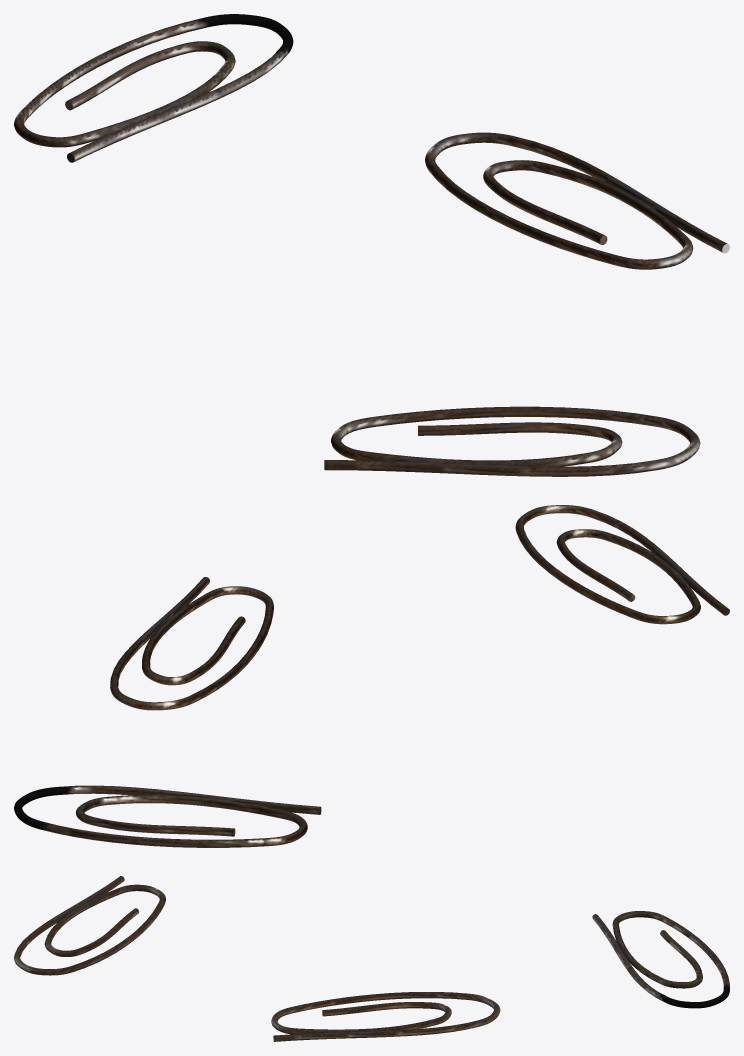
Rendered from clips.glb.
3 renders of one model, top to bottom at view 1: azimuth 30°, elevation 25°; view 2: azimuth 150°, elevation 25°; view 3: azimuth 270°, elevation 25°, orthographic. The views are drawn at different scales.
Visible parts, largest first — view 1: clip_c, clip_b, clip_a; view 2: clip_a, clip_c, clip_b; view 3: clip_b, clip_c, clip_a.
Boxes of the visible parts, box(x1,y1,x2,y2) form: clip_c: box(324, 406, 700, 476); clip_b: box(425, 132, 729, 269); clip_a: box(14, 14, 293, 162); clip_a: box(14, 785, 321, 847); clip_c: box(515, 505, 729, 624); clip_b: box(110, 577, 273, 710); clip_b: box(271, 992, 500, 1041); clip_c: box(14, 876, 165, 975); clip_a: box(592, 911, 729, 1008).
Size of the model in its own units: 0.0537 by 0.0009 by 0.1005.
Materials: 3 (3 with a texture image).
